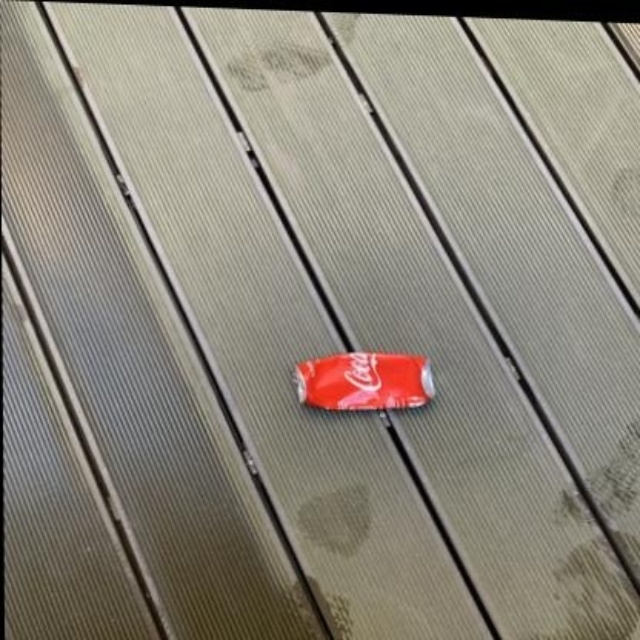trash: (295, 352, 434, 409)
